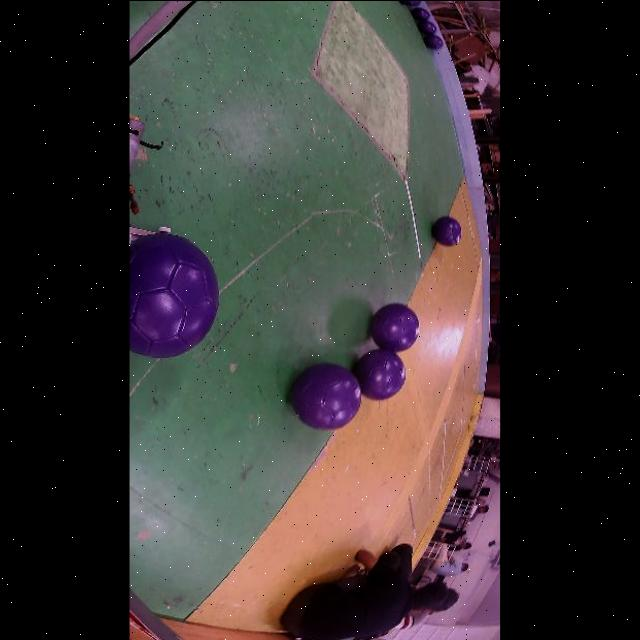P: (129, 232, 218, 357), (291, 362, 361, 429), (353, 348, 406, 400), (370, 303, 419, 351), (432, 215, 461, 245), (424, 33, 443, 49), (411, 6, 430, 20), (418, 19, 437, 33), (398, 0, 421, 5)
